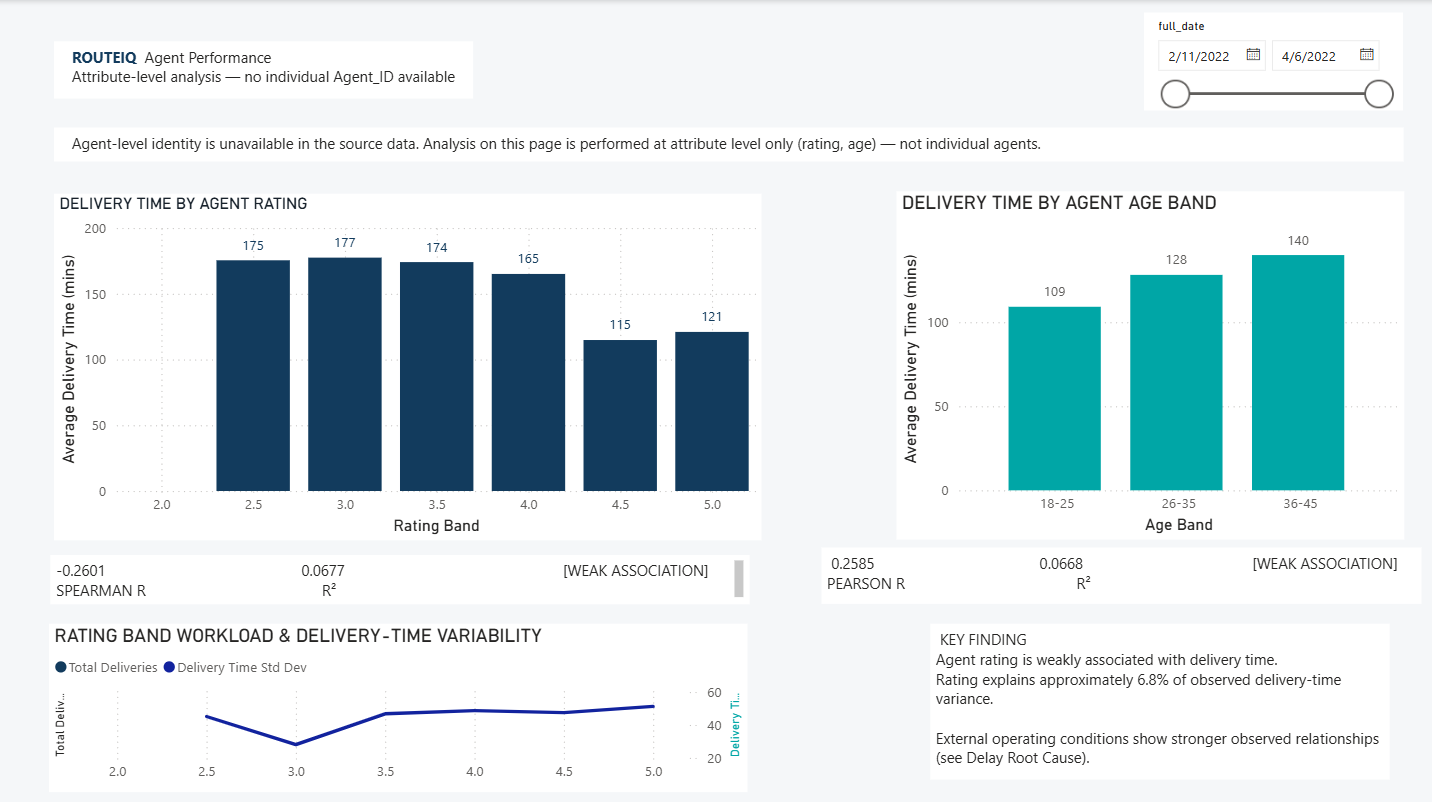

The page's visual inventory and layout, read from the dashboard file:
{"tool":"powerbi","page":{"name":"Agent Performance","canvas":[1280,720],"ordinal":2},"visuals":[{"type":"textbox","title":"   KEY FINDING     Agent rating is weakly associated with delivery time.     Rating explains approximately 6.8% of observed delivery-time variance.     External operating conditions show stronger obse","box":[831.4,557,410.5,139.5],"z":0},{"type":"textbox","box":[48.8,37.2,374.4,51.2],"z":1000},{"type":"textbox","box":[48.8,114,1205.8,30.2],"z":2000},{"type":"slicer","fields":{"Values":["DimDate.full_date"]},"box":[1023.3,11.6,231.4,87.2],"z":3000},{"type":"clusteredColumnChart","title":"   DELIVERY TIME BY AGENT RATING","fields":{"Category":["DimAgent.Rating Band"],"Y":["FactDelivery.Average Delivery Time (mins)"]},"box":[48.8,173.3,632.3,309.5],"z":4000},{"type":"textbox","box":[45.3,495.4,624.4,44],"z":5000},{"type":"clusteredColumnChart","title":"DELIVERY TIME BY AGENT AGE BAND","fields":{"Category":["DimAgent.Age Band"],"Y":["FactDelivery.Average Delivery Time (mins)"]},"box":[801.4,171.4,453.3,311.2],"z":6000},{"type":"textbox","box":[734.9,489.5,535.8,50],"z":7000},{"type":"lineClusteredColumnComboChart","title":"RATING BAND WORKLOAD & DELIVERY-TIME VARIABILITY","fields":{"Category":["DimAgent.Rating Band"],"Y":["FactDelivery.Total Deliveries"],"Y2":["FactDelivery.Delivery Time Std Dev"]},"box":[45,557,624,150],"z":8000}]}

Visuals, with their boxes in screenshot pixels (x1, y1, x2, y2), scaled from the page's 1280x720 canvas onto the 1432x802 screenshot:
"   KEY FINDING     Agent rating is weakly associated with delivery time.     Rating explains approximately 6.8% of observed delivery-time variance.     External operating conditions show stronger obse" textbox: crop(930, 620, 1389, 776)
textbox: crop(55, 41, 473, 98)
textbox: crop(55, 127, 1404, 161)
slicer - DimDate.full_date: crop(1145, 13, 1404, 110)
"   DELIVERY TIME BY AGENT RATING" clusteredColumnChart: crop(55, 193, 762, 538)
textbox: crop(51, 552, 749, 601)
"DELIVERY TIME BY AGENT AGE BAND" clusteredColumnChart: crop(897, 191, 1404, 538)
textbox: crop(822, 545, 1422, 601)
"RATING BAND WORKLOAD & DELIVERY-TIME VARIABILITY" lineClusteredColumnComboChart: crop(50, 620, 748, 788)
